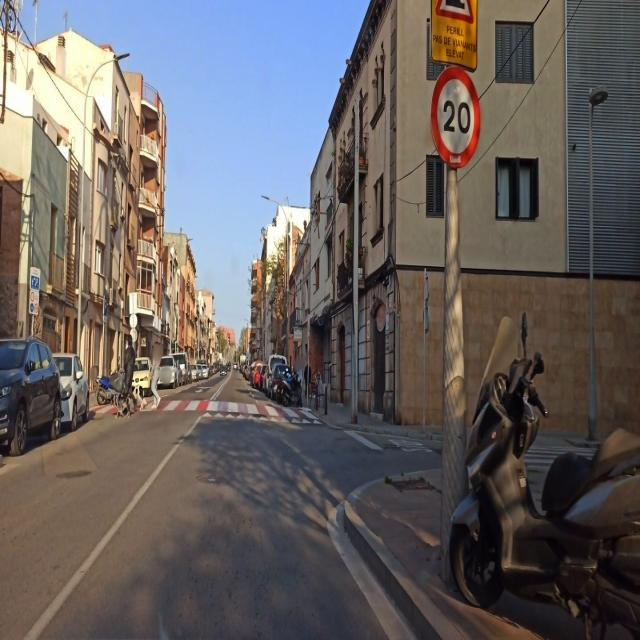bike: (445, 342, 639, 624), (446, 342, 556, 632), (94, 370, 126, 407), (277, 367, 303, 408)
car: (0, 336, 63, 459), (52, 351, 90, 431), (264, 354, 287, 396), (132, 356, 154, 394), (156, 355, 178, 389), (174, 352, 188, 384), (255, 363, 266, 390), (198, 361, 210, 380), (249, 363, 256, 385), (244, 363, 252, 382), (190, 364, 198, 382), (219, 364, 227, 378)
